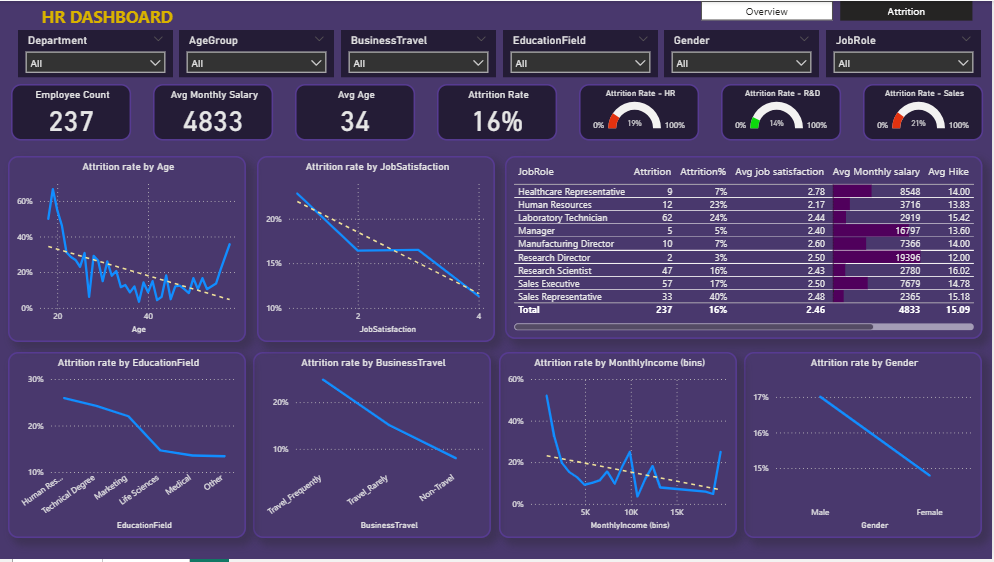

The page's visual inventory and layout, read from the dashboard file:
{"tool":"powerbi","page":{"name":"Attrition","canvas":[1280,720],"ordinal":1},"visuals":[{"type":"slicer","fields":{"Values":["HR_Analytics.Department"]},"box":[22.7,37.3,200,60.9],"z":0},{"type":"slicer","fields":{"Values":["HR_Analytics.AgeGroup"]},"box":[231.3,37.3,200,60.9],"z":1000},{"type":"slicer","fields":{"Values":["HR_Analytics.BusinessTravel"]},"box":[439.9,37.3,200,60.9],"z":2000},{"type":"slicer","fields":{"Values":["HR_Analytics.EducationField"]},"box":[648.6,37.3,200,60.9],"z":3000},{"type":"slicer","fields":{"Values":["HR_Analytics.Gender"]},"box":[857.2,37.3,200,60.9],"z":4000},{"type":"slicer","fields":{"Values":["HR_Analytics.JobRole"]},"box":[1065.8,37.3,200,60.9],"z":5000},{"type":"card","title":"Employee Count","fields":{"Values":["HR_Analytics.Employee count"]},"box":[14.2,107.7,155,73],"z":6000},{"type":"card","title":"Avg Monthly Salary","fields":{"Values":["HR_Analytics.Avg Monthly salary"]},"box":[197.5,107.7,155,73],"z":7000},{"type":"card","title":"Avg Age","fields":{"Values":["HR_Analytics.Average age"]},"box":[380.8,107.7,155,73],"z":8000},{"type":"card","title":"Attrition Rate","fields":{"Values":["HR_Analytics.Attrition rate"]},"box":[564.1,107.7,155,73],"z":9000},{"type":"gauge","title":"Attrition Rate - HR ","fields":{"Y":["HR_Analytics.Attrition rate"]},"box":[747.4,107.7,155,73],"z":10000},{"type":"tableEx","fields":{"Values":["HR_Analytics.JobRole","HR_Analytics.attrition count","HR_Analytics.Attrition rate","HR_Analytics.average job satisfaction_score","HR_Analytics.Avg Monthly salary","HR_Analytics.Average Hike","HR_Analytics.Gender Ratio","HR_Analytics.Overtrime %"]},"box":[651.4,200,615.7,235.7],"z":11000},{"type":"gauge","title":"Attrition Rate - R&D ","fields":{"Y":["HR_Analytics.Attrition rate"]},"box":[930.7,107.7,155,73],"z":12000},{"type":"gauge","title":"Attrition Rate - Sales","fields":{"Y":["HR_Analytics.Attrition rate"]},"box":[1114,107.7,155,73],"z":13000},{"type":"lineChart","fields":{"Y":["HR_Analytics.Attrition rate"],"Category":["HR_Analytics.Age"]},"box":[10,200,307,240],"z":14000},{"type":"lineChart","fields":{"Y":["HR_Analytics.Attrition rate"],"Category":["HR_Analytics.BusinessTravel"]},"box":[326.6,452.9,307.1,240],"z":15000},{"type":"lineChart","fields":{"Y":["HR_Analytics.Attrition rate"],"Category":["HR_Analytics.EducationField"]},"box":[10,452.9,307,240],"z":16000},{"type":"lineChart","fields":{"Y":["HR_Analytics.Attrition rate"],"Category":["HR_Analytics.Gender"]},"box":[960,452.9,307.1,240],"z":17000},{"type":"lineChart","fields":{"Y":["HR_Analytics.Attrition rate"],"Category":["HR_Analytics.JobSatisfaction"]},"box":[331.4,200,307,240],"z":18000},{"type":"lineChart","fields":{"Y":["HR_Analytics.Attrition rate"],"Category":["HR_Analytics.MonthlyIncome (bins)"]},"box":[643.4,452.9,307,240],"z":19000},{"type":"pageNavigator","box":[904.3,0,350,25.7],"z":20000},{"type":"textbox","box":[14.2,0,248,46.8],"z":20001}]}

Visuals, with their boxes in screenshot pixels (x1, y1, x2, y2), scaled from the page's 1280x720 canvas onto the 994x562 screenshot:
slicer - HR_Analytics.Department: (18,29,173,77)
slicer - HR_Analytics.AgeGroup: (180,29,335,77)
slicer - HR_Analytics.BusinessTravel: (342,29,497,77)
slicer - HR_Analytics.EducationField: (504,29,659,77)
slicer - HR_Analytics.Gender: (666,29,821,77)
slicer - HR_Analytics.JobRole: (828,29,983,77)
"Employee Count" card: (11,84,131,141)
"Avg Monthly Salary" card: (153,84,274,141)
"Avg Age" card: (296,84,416,141)
"Attrition Rate" card: (438,84,558,141)
"Attrition Rate - HR " gauge: (580,84,701,141)
tableEx - HR_Analytics.JobRole x HR_Analytics.attrition count: (506,156,984,340)
"Attrition Rate - R&D " gauge: (723,84,843,141)
"Attrition Rate - Sales" gauge: (865,84,985,141)
lineChart - HR_Analytics.Attrition rate x HR_Analytics.Age: (8,156,246,343)
lineChart - HR_Analytics.Attrition rate x HR_Analytics.BusinessTravel: (254,354,492,541)
lineChart - HR_Analytics.Attrition rate x HR_Analytics.EducationField: (8,354,246,541)
lineChart - HR_Analytics.Attrition rate x HR_Analytics.Gender: (746,354,984,541)
lineChart - HR_Analytics.Attrition rate x HR_Analytics.JobSatisfaction: (257,156,496,343)
lineChart - HR_Analytics.Attrition rate x HR_Analytics.MonthlyIncome (bins): (500,354,738,541)
pageNavigator: (702,0,974,20)
textbox: (11,0,204,37)
